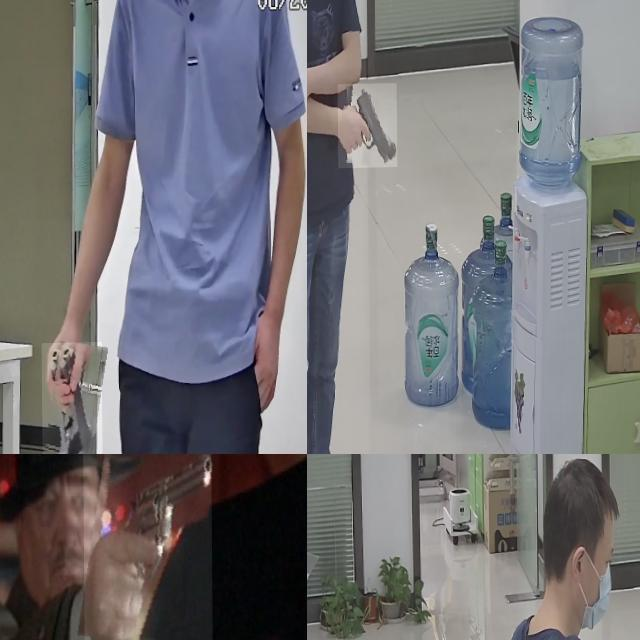gun-knife-thesis - v11 Yolov5 augmented: (83, 454, 211, 640), (41, 343, 101, 454), (338, 84, 397, 170)
